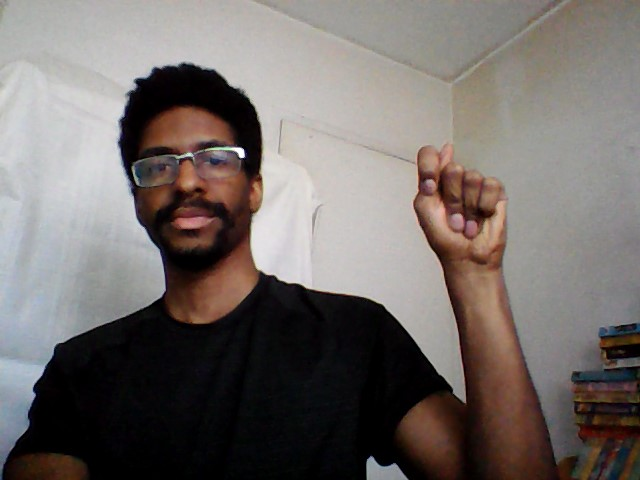t: (407, 138, 514, 271)
